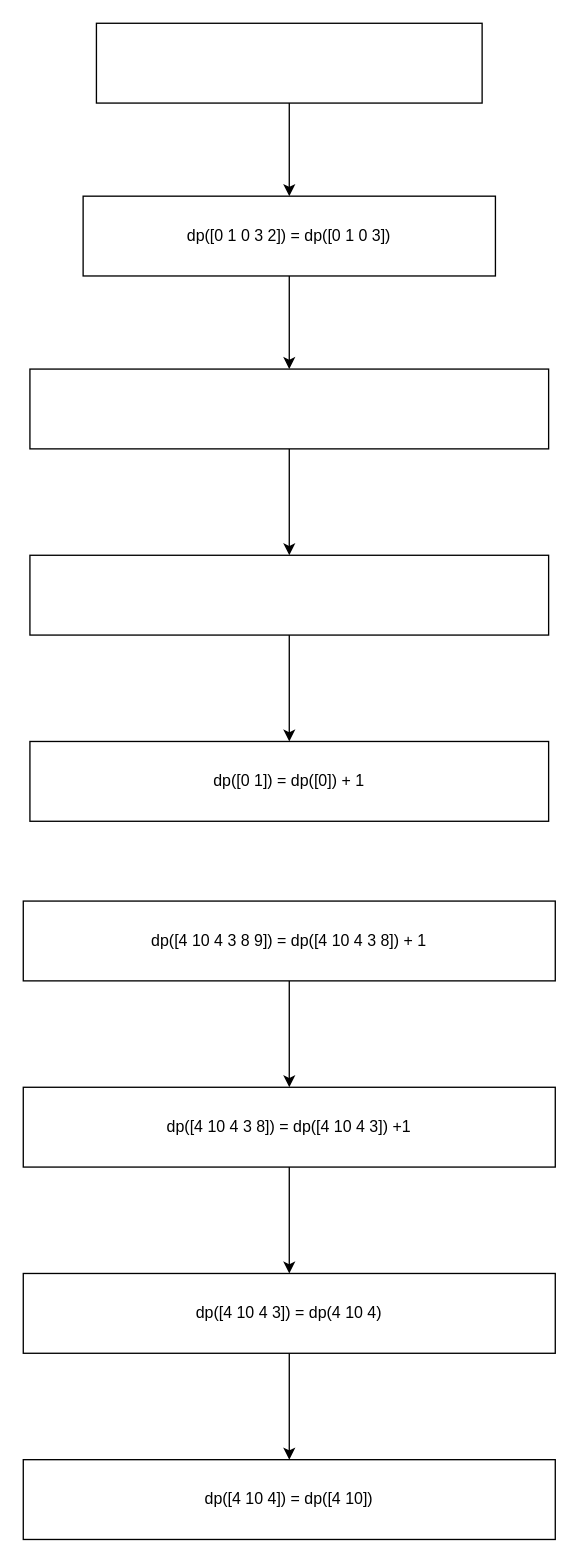
Some shapes in this 579 by 1563 pixel diagram are drawn without their labels. The centre of each missing label's shape, as x and y in pixels:
"dp([0 1 0 3]) = dp([0 1 0]) + 1" goes at point 289,408.
"dp([0 1 0]) = dp([0 1])" goes at point 289,594.
"dp[0 1 0 3 2 3] = dp([0 1 0 3 2]) + 1" goes at point 288,62.
